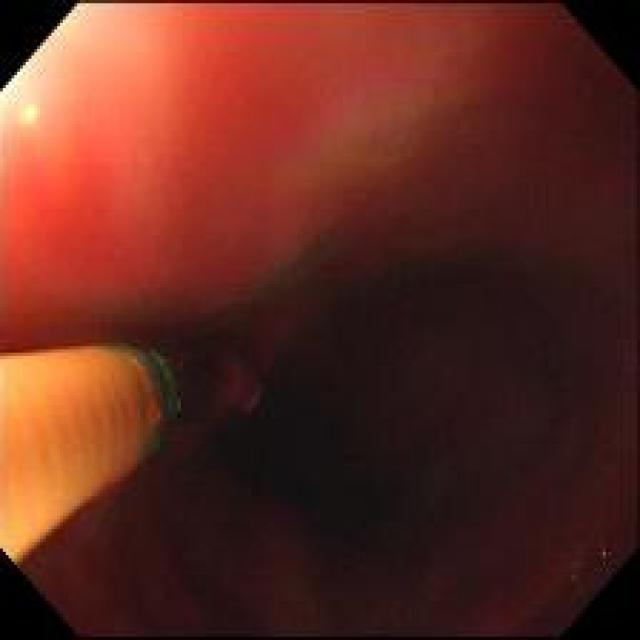bubbles: (562, 554, 590, 586)
color misalignment: (133, 350, 182, 459), (602, 539, 607, 564)
contrast: (122, 279, 635, 632)
instrument: (2, 339, 265, 564)
saturation: (25, 107, 38, 124)
